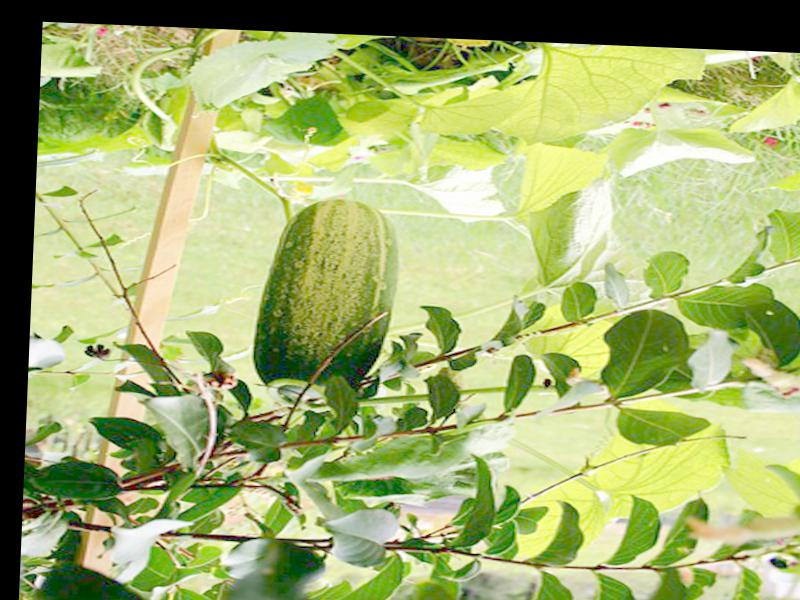Cucumber: (248, 194, 397, 412)
